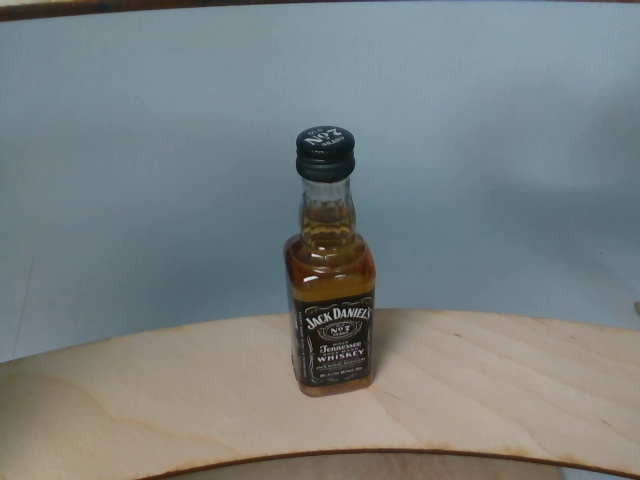whiskey: (281, 125, 380, 395)
